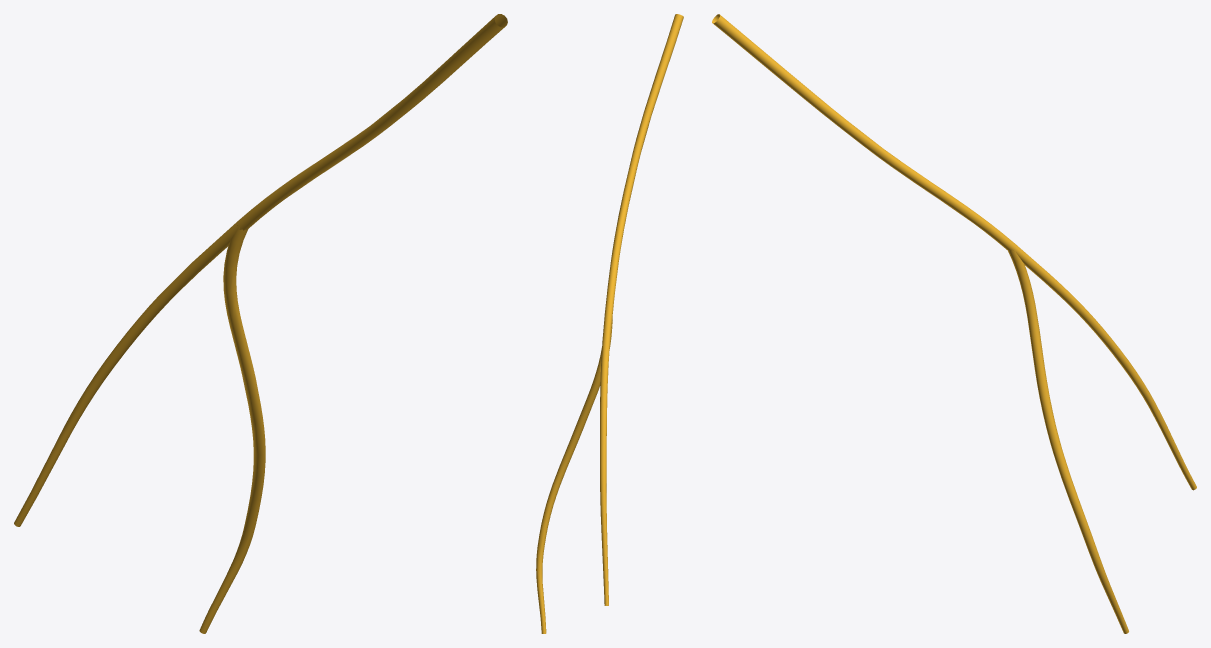
File: nervoso-inferior-subscapular-nerve-l.glb
3 views of the same model, side by side, from view 1: azimuth 30°, elevation 25°; view 2: azimuth 150°, elevation 25°; view 3: azimuth 270°, elevation 25° (orthographic). The views are drawn at different scales.
Parts seen in each view (by area): view 1: Inferior subscapular nerve.l; view 2: Inferior subscapular nerve.l; view 3: Inferior subscapular nerve.l.
Part boxes in pixels (x1,y1,x2,y2): Inferior subscapular nerve.l: [14, 14, 507, 633]; Inferior subscapular nerve.l: [536, 14, 683, 633]; Inferior subscapular nerve.l: [712, 14, 1196, 633].
Bounding box in the file's own units: 0.0241 × 0.0947 × 0.0657.
